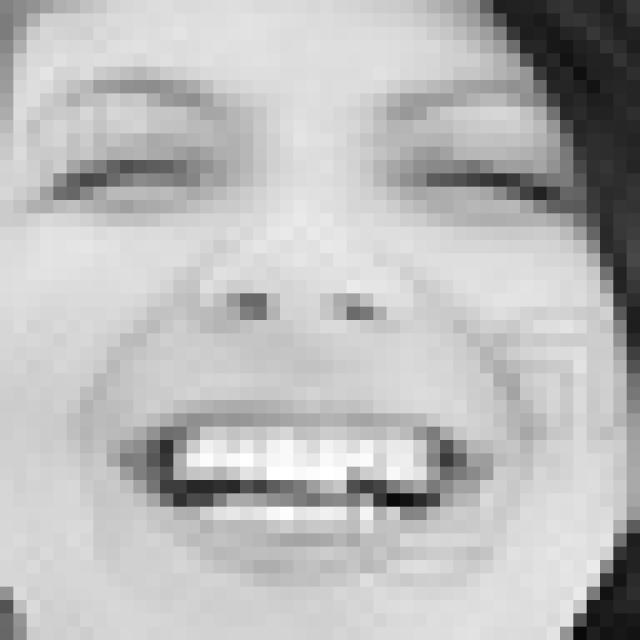happy: (32, 72, 586, 575)
